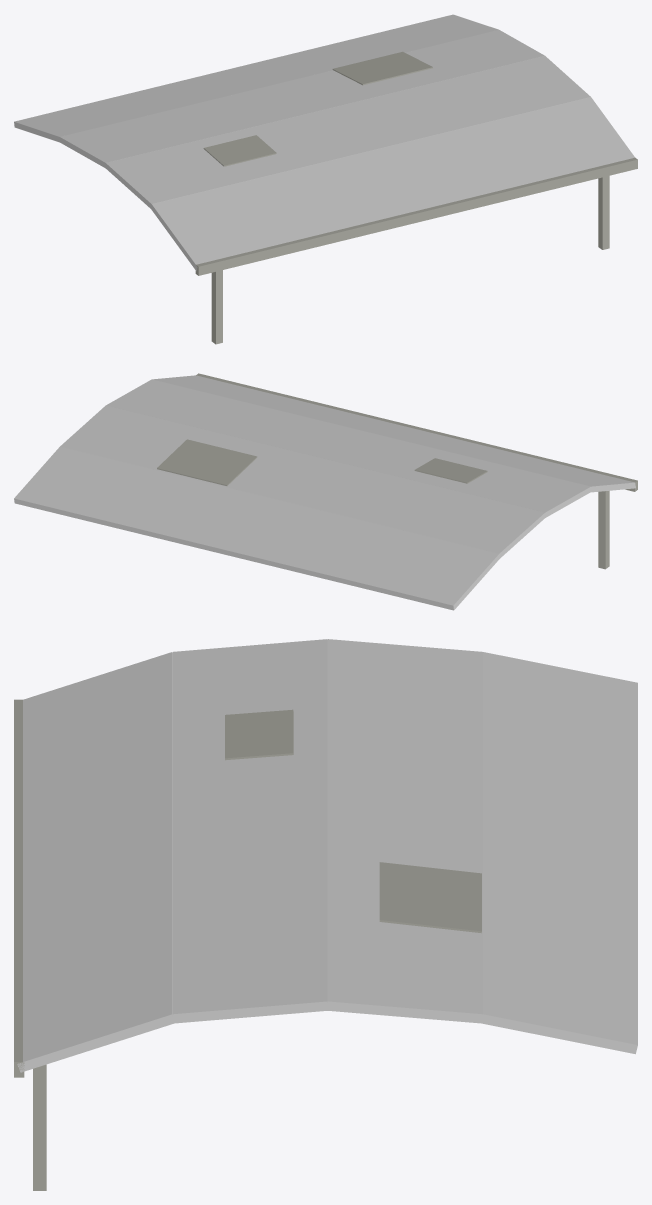
Rendered from SM_VestibuloCastellon_v2_EnLiberacion_LOD1.fbx.
3 views of the same model, one above another, from view 1: azimuth 30°, elevation 25°; view 2: azimuth 150°, elevation 25°; view 3: azimuth 270°, elevation 25° (orthographic). The views are drawn at different scales.
Parts seen in each view (by area): view 1: Cubierta; view 2: Cubierta; view 3: Cubierta.
Part boxes in pixels (x1,y1,x2,y2): Cubierta: (14,14,637,344); Cubierta: (14,373,637,610); Cubierta: (14,639,637,1190).
Size of what is drawn, in the model's own units: 25 by 6.76 by 18.19.
